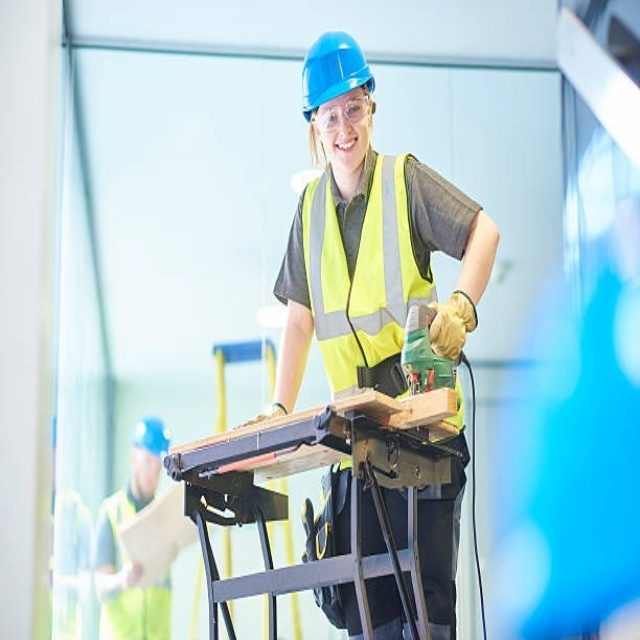Gafas: (313, 94, 369, 135)
Guantes: (426, 289, 482, 359)
Sin_mascara: (330, 136, 363, 171)
